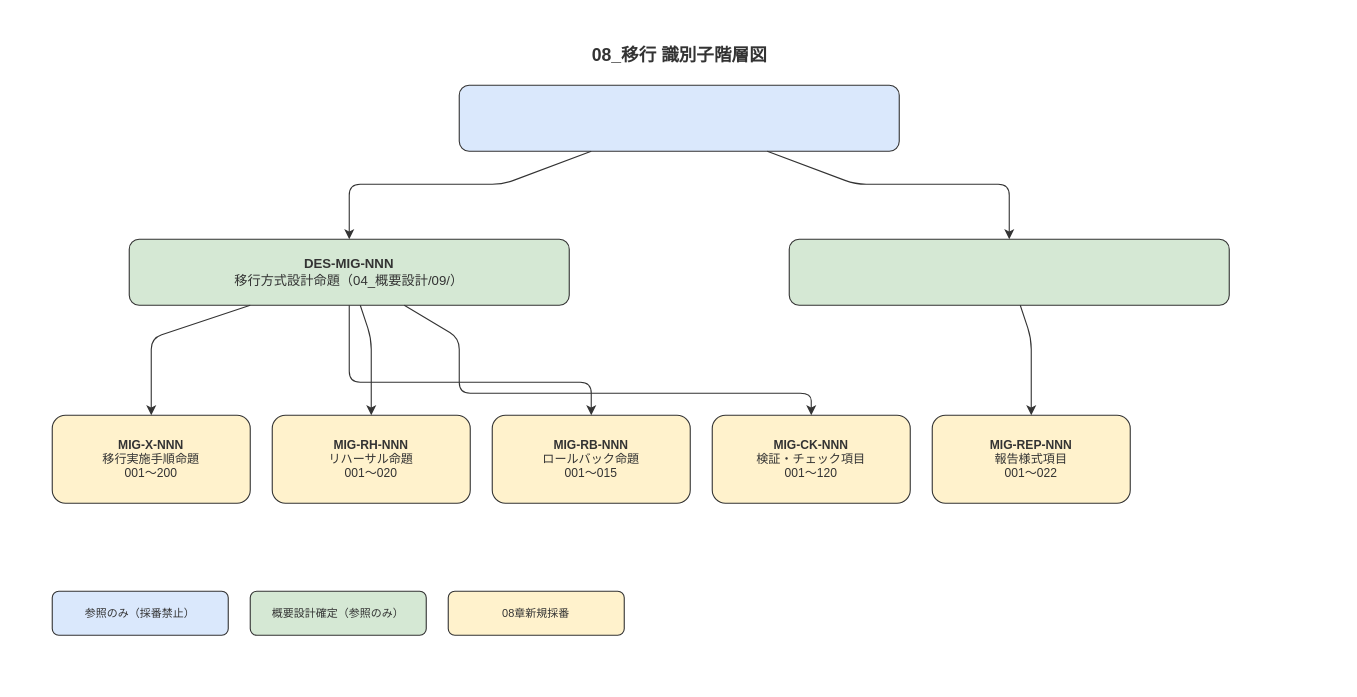
The diagram is 1357 pixels wide and 697 high, and some of its shapes have lost their labels. The shapes that lost their labels are listed below. From the top down, each one's centre as x and y in pixels, then its label:
At point (678, 117): "MIG-NNN 移行要件（003_要件定義/移行要件/）".
At point (1008, 271): "MIG-T-NNN 移行タスク識別子（001〜020）".
